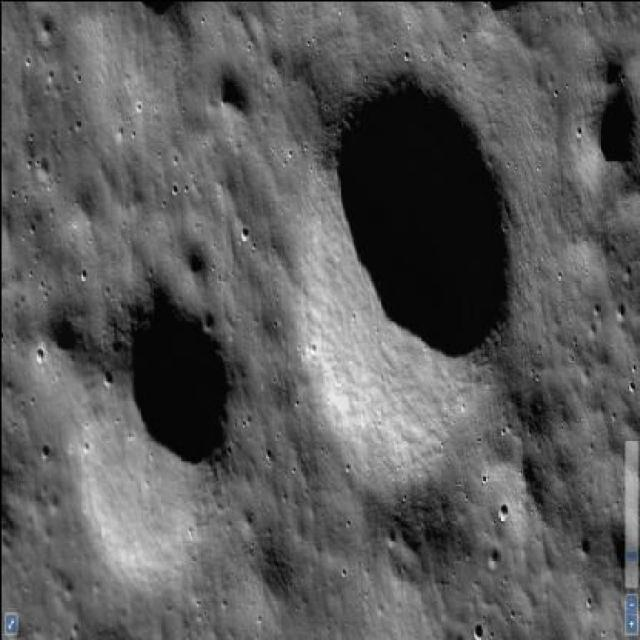crater: (298, 77, 512, 480), (87, 302, 236, 538), (574, 61, 638, 190)
